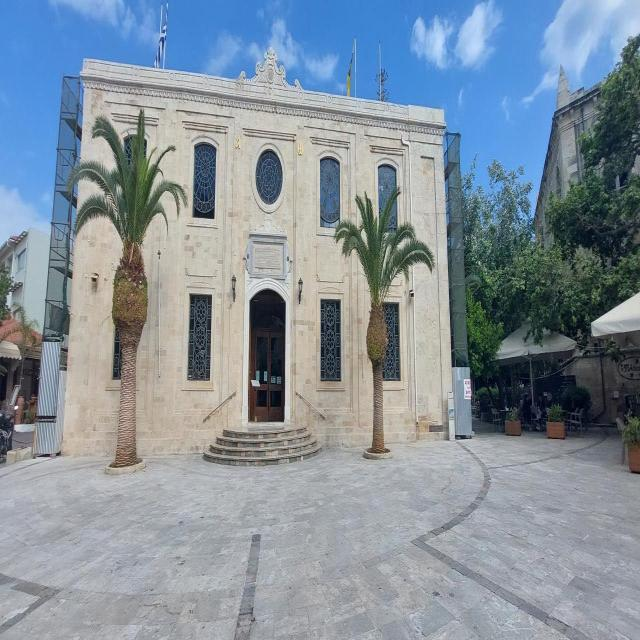Agios Titos: (63, 69, 455, 442)
